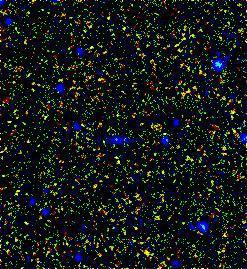star: (132, 240, 162, 269)
